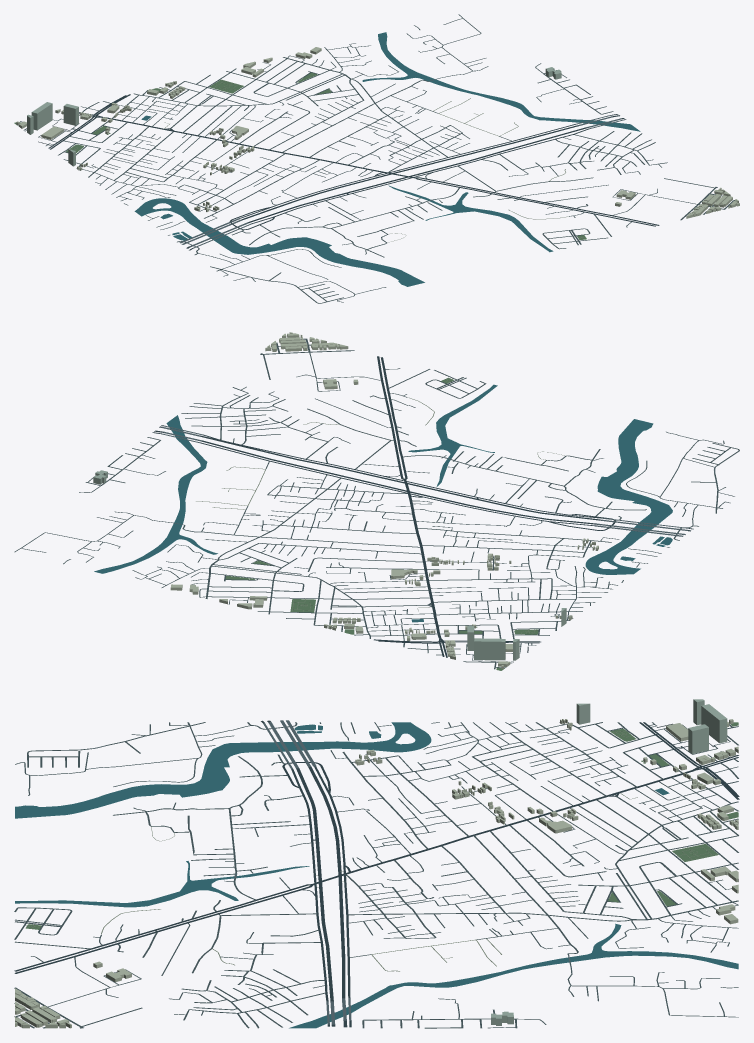
3 views of the same model, one above another, from view 1: azimuth 30°, elevation 25°; view 2: azimuth 150°, elevation 25°; view 3: azimuth 270°, elevation 25° (orthographic). The views are drawn at different scales.
Visible parts, largest first — view 1: street, water, major, building, building-tagged, bridge, green; view 2: street, water, major, building, building-tagged, bridge, green; view 3: street, water, major, building, building-tagged, green, bridge, path.
Part boxes in pixels (x1,y1,x2,y2): street: (18,14,734,303); water: (134,32,640,286); major: (48,94,659,250); building: (16,47,739,218); building-tagged: (27,67,561,166); bridge: (179,78,623,285); green: (14,72,586,239); street: (14,338,739,669); water: (94,384,672,622); major: (152,356,693,657); building: (170,332,598,669); building-tagged: (93,470,566,660); bridge: (162,425,715,536); green: (225,377,538,670); street: (14,722,738,1028); water: (15,722,738,1028); major: (14,720,739,1027); building: (15,719,738,1028); building-tagged: (491,699,727,1025); green: (25,722,738,929); bridge: (89,720,570,1024); path: (25,730,716,971).
Bounding box in the file's own units: 2005 × 75.4 × 2006.
